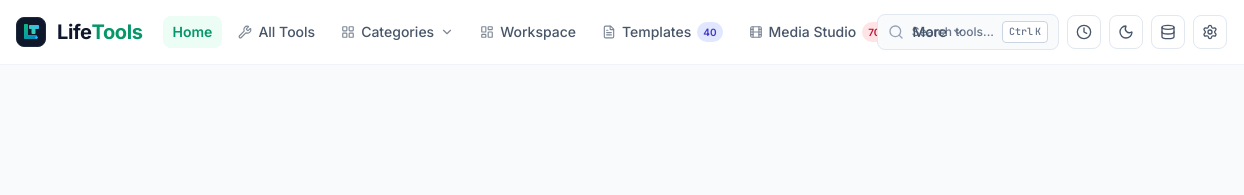
Test case: Favorites — Clean Empty State & Dynamic Updates › renders More dropdown on desktop and navigates to items
The width and height of the screenshot is (1244, 195).
# Click More
Click the button titled "More navigation options" at (939,32), box [902,16,975,48]
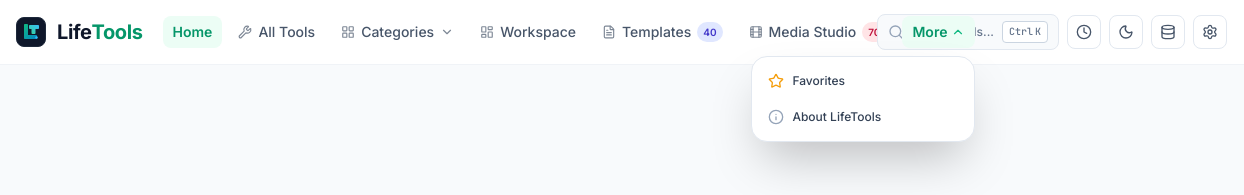
Result: the button titled "More navigation options" is expanded at [902,16,976,48]
Result: the text "About LifeTools" is shown at [792,109,881,125]
# Click About LifeTools
Click the menu item "About LifeTools" at (825,117), box [768,109,881,125]
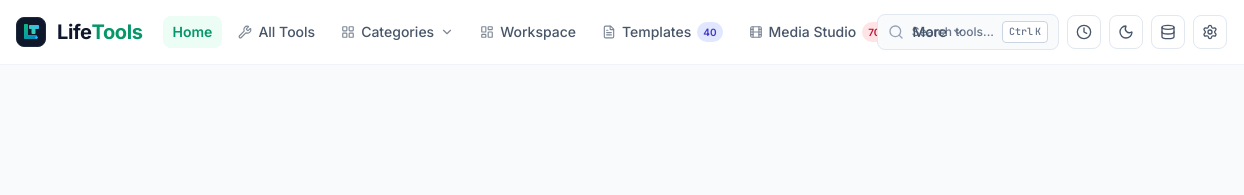
Result: the button titled "More navigation options" is collapsed at [902,16,975,48]
